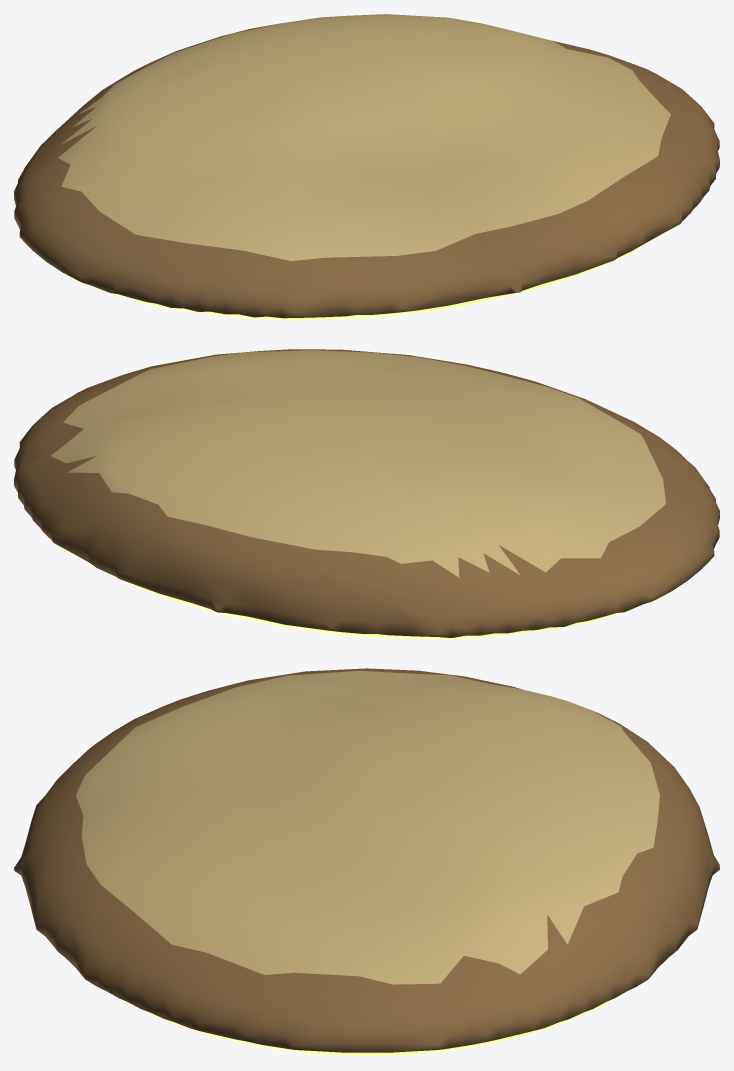
The model's file is mire_shelf_fungus.glb.
3 views of the same model, one above another, from view 1: azimuth 30°, elevation 25°; view 2: azimuth 150°, elevation 25°; view 3: azimuth 270°, elevation 25° (orthographic). The views are drawn at different scales.
Visible parts, largest first — view 1: mire_shelf_fungus; view 2: mire_shelf_fungus; view 3: mire_shelf_fungus.
Boxes of the visible parts, left/top/right/bottom form: mire_shelf_fungus: left=14, top=14, right=719, bottom=320; mire_shelf_fungus: left=14, top=349, right=719, bottom=639; mire_shelf_fungus: left=14, top=668, right=719, bottom=1056.
Size of the model in its own units: 2.9 by 0.5036 by 2.38.
